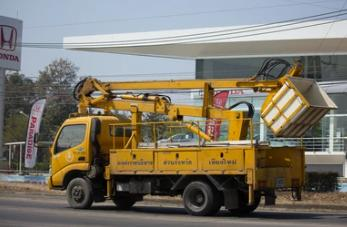vehicle: (34, 63, 338, 216)
